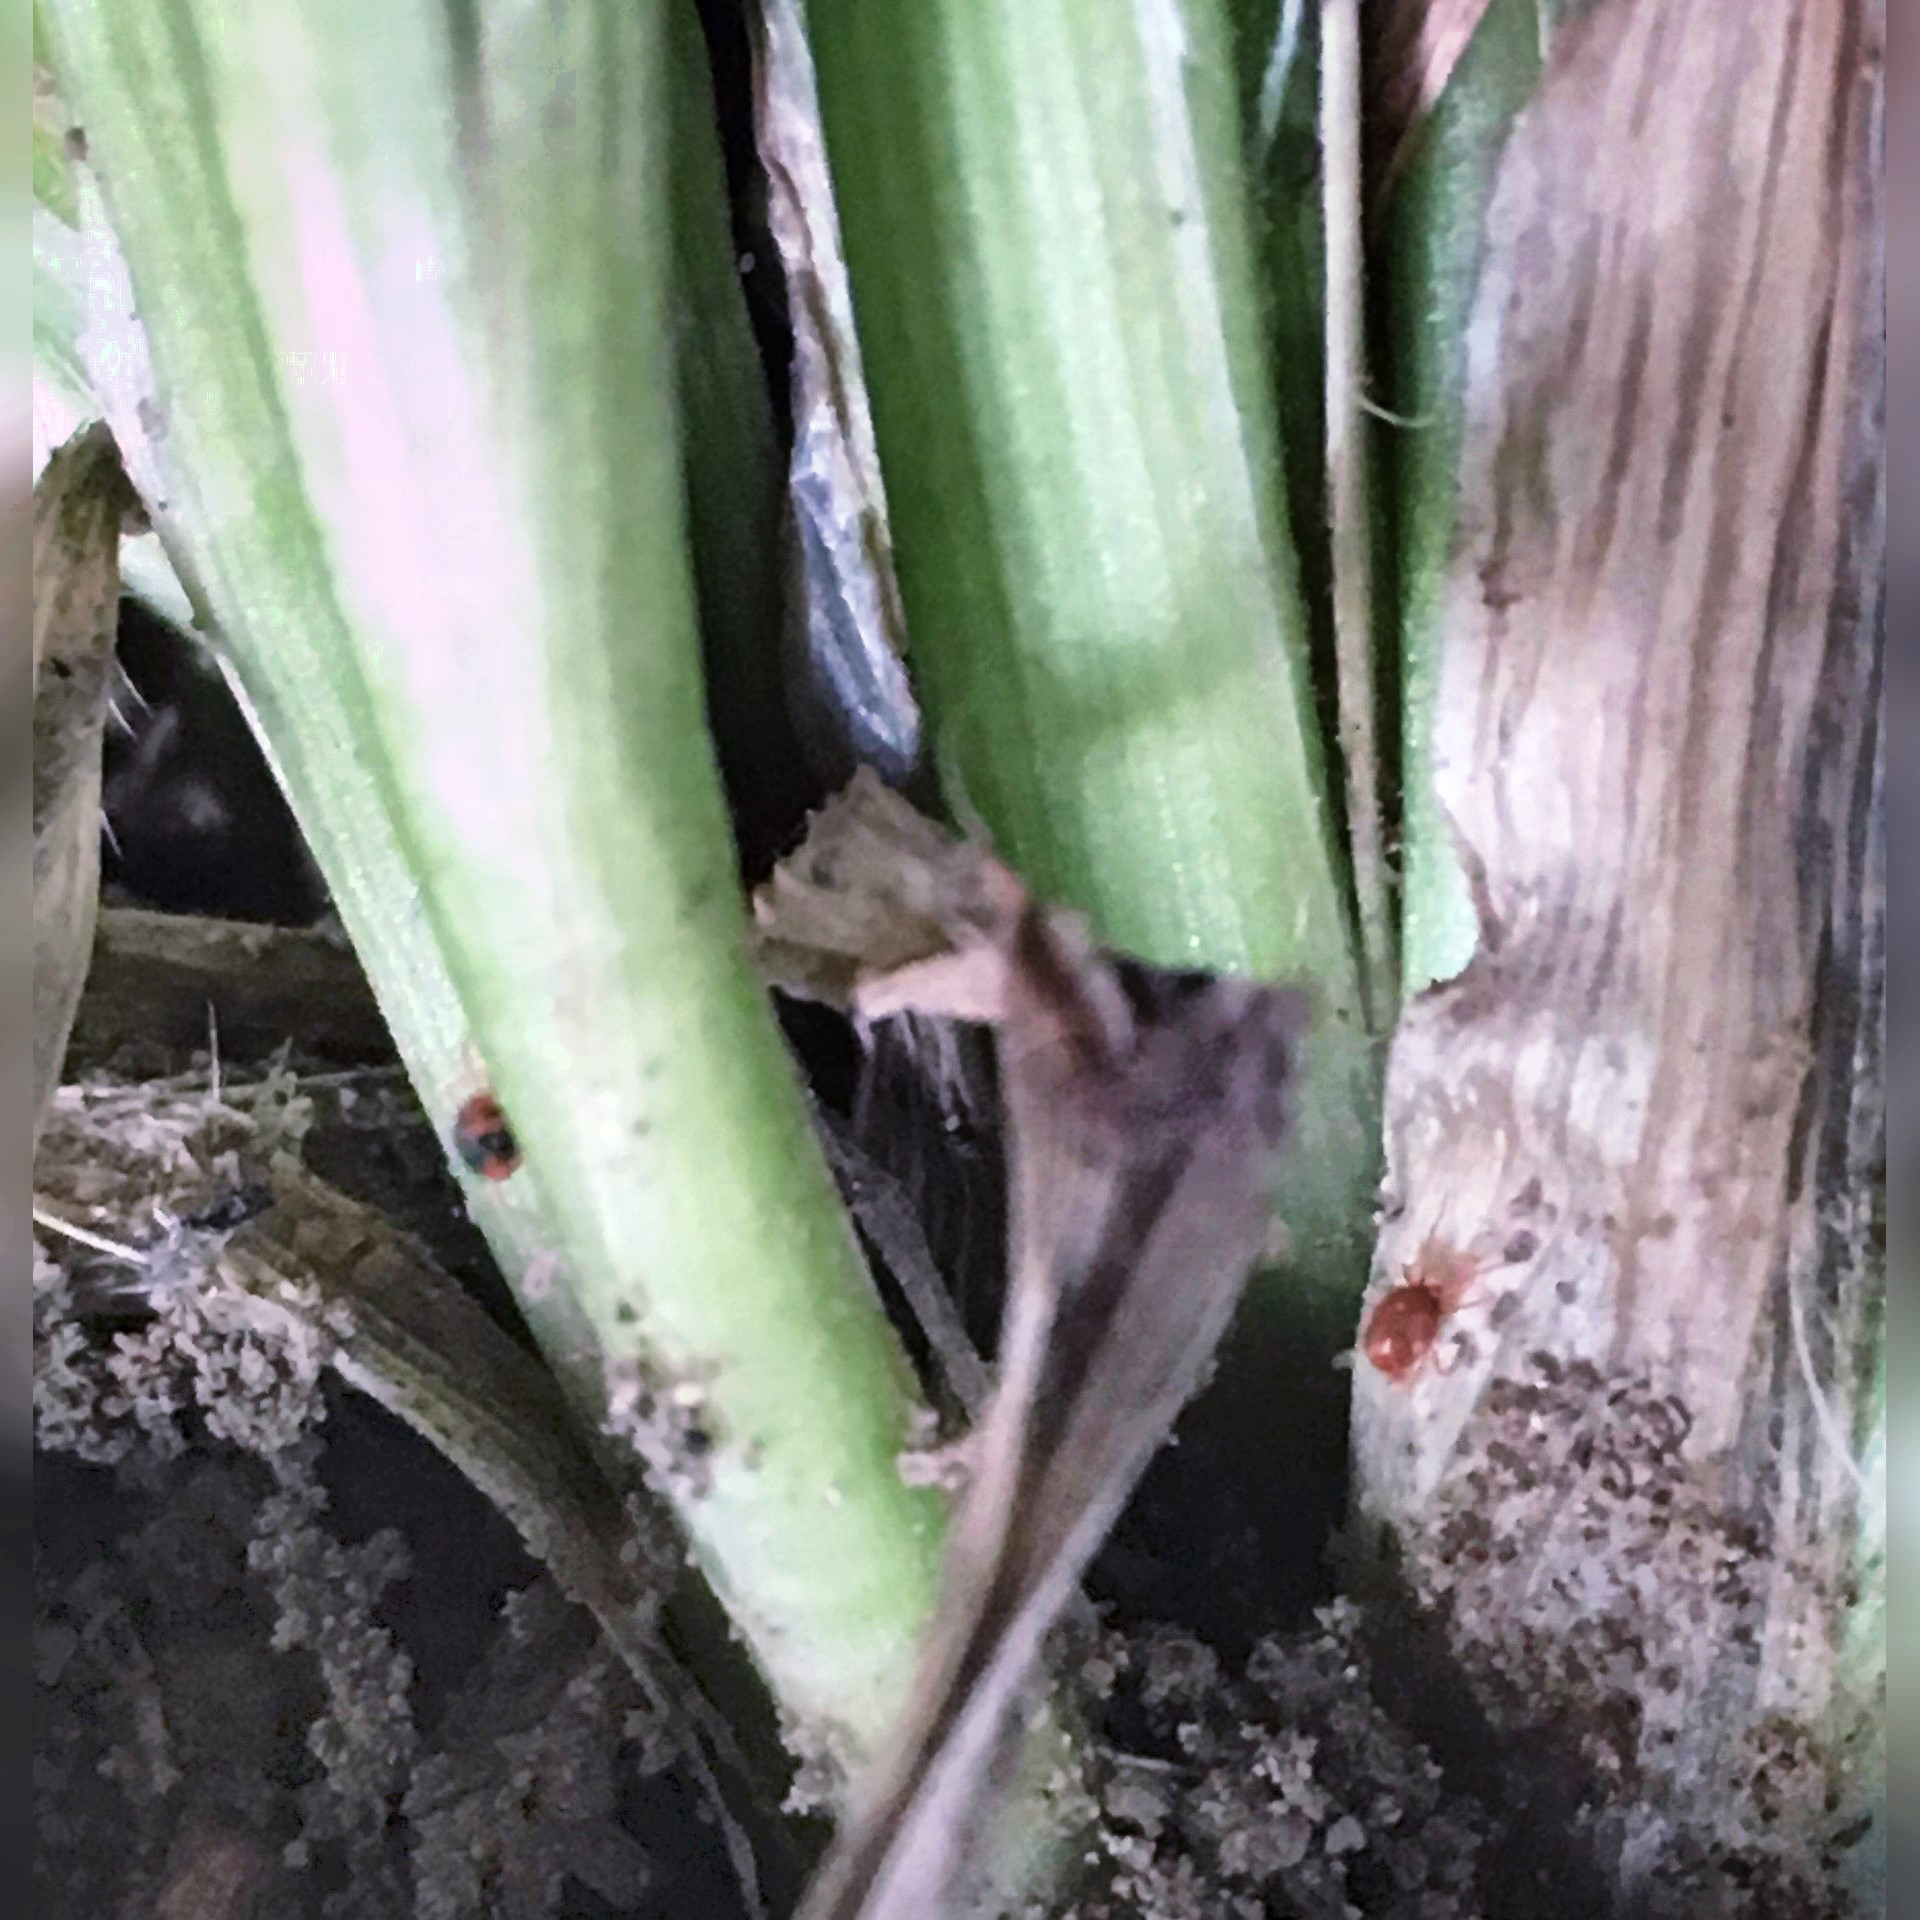Wheat Red Spider: (1335, 1196, 1507, 1408)
